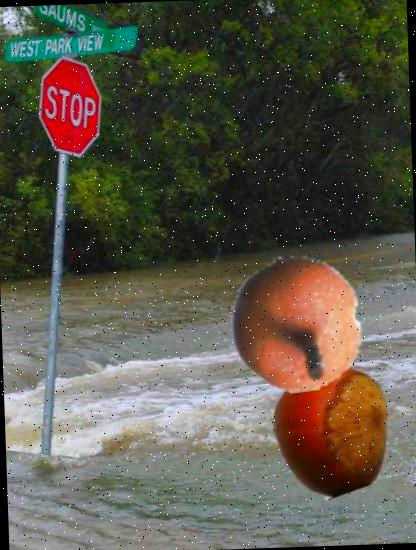Granadilla: (226, 252, 370, 396)
Nut: (270, 364, 400, 496)
